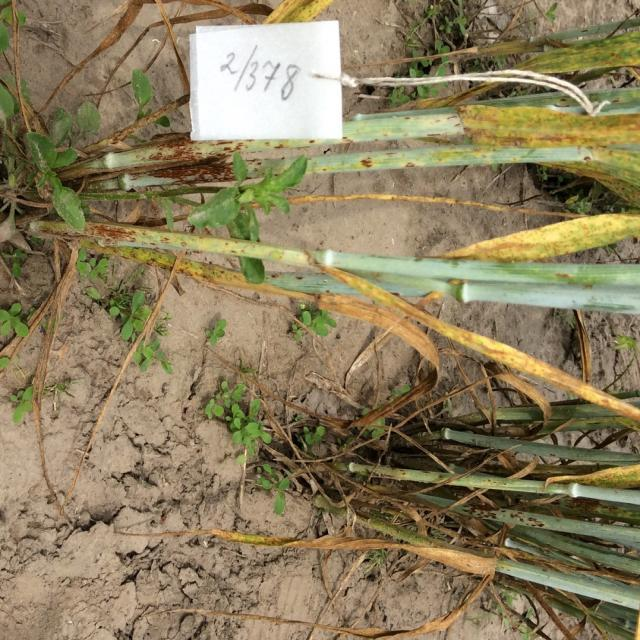wheat-stemrust: (112, 252, 438, 422), (327, 267, 640, 417), (89, 224, 640, 290), (344, 106, 640, 147), (59, 140, 316, 178), (451, 213, 640, 264), (513, 17, 640, 75), (373, 82, 503, 111)
